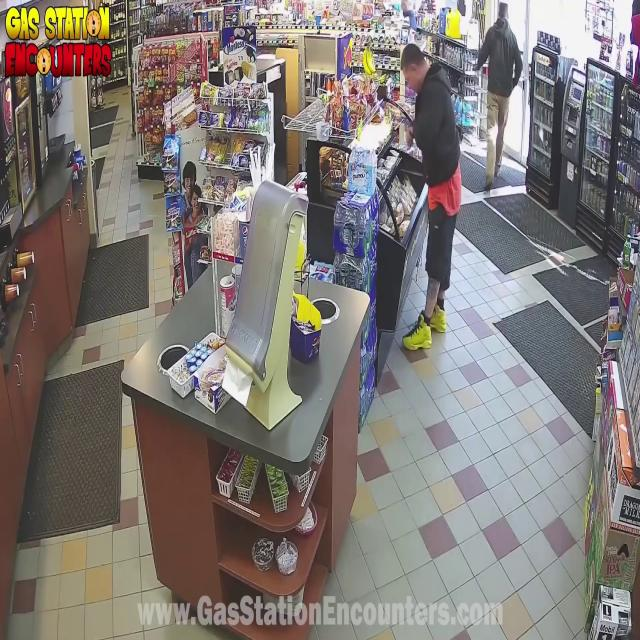normal: (469, 0, 529, 221)
shoplifting: (392, 19, 486, 372)
